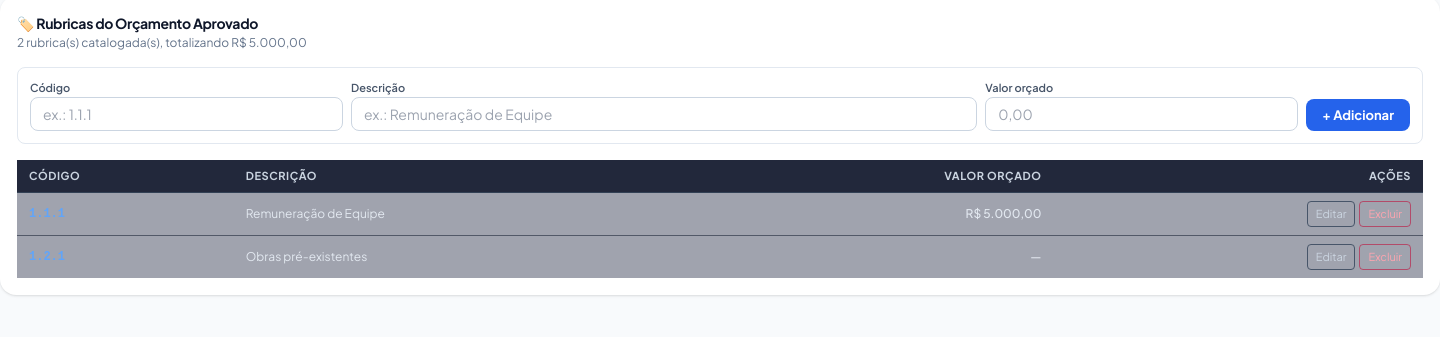
it: RubricasProjeto › exige código e descrição antes de cadastrar
Check: the text "Remuneração de Equipe" is shown, box [246,206,385,220]
Click the button "+ Adicionar" at (1358,114), box [1306,98,1410,130]
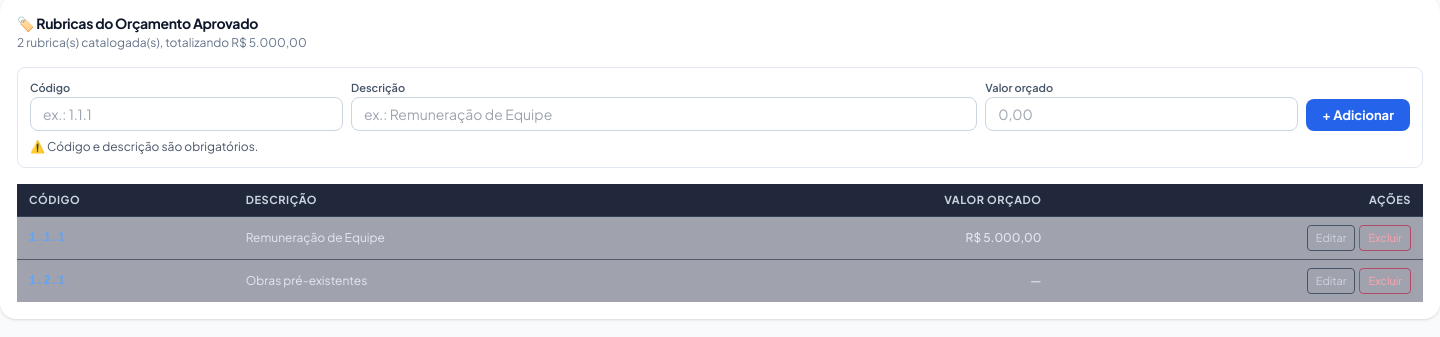
Check: the text "⚠️ Código e descrição são obrigatórios." is shown, box [30,138,258,154]
